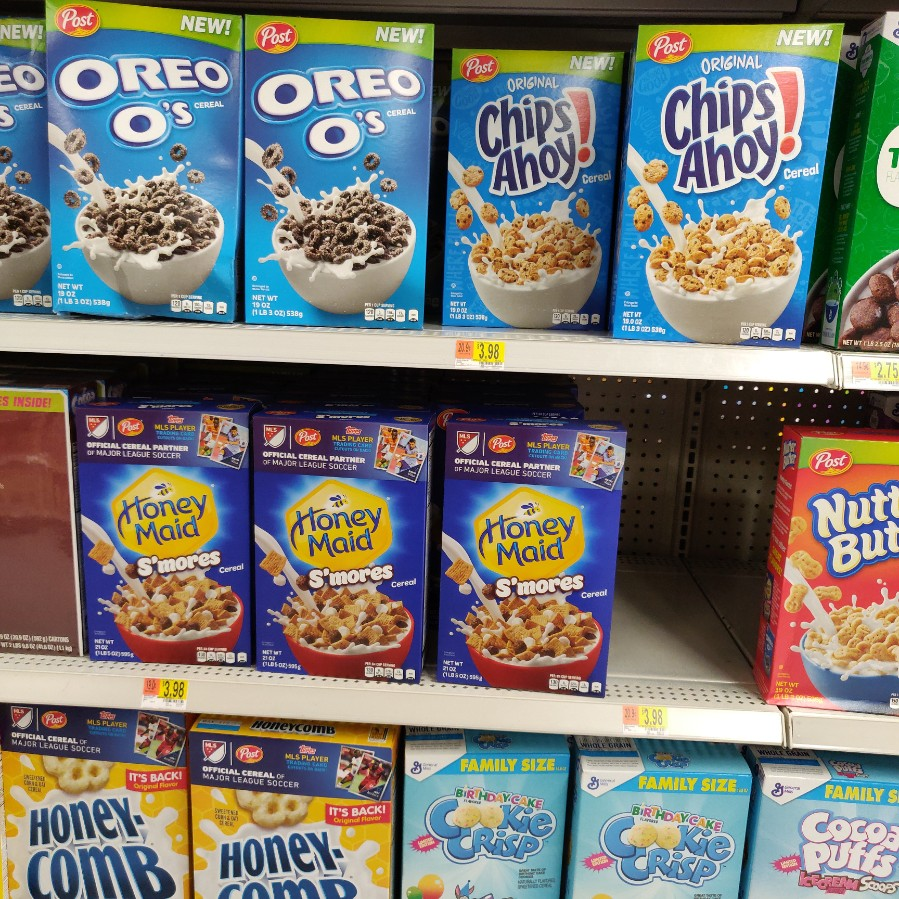Chips Ahoys-565717529: (615, 22, 826, 339), (448, 44, 608, 331)
Honey Comb- 009288857: (188, 716, 396, 899), (3, 703, 196, 899)
Oreo-563424384: (239, 11, 436, 329), (44, 6, 234, 316)
